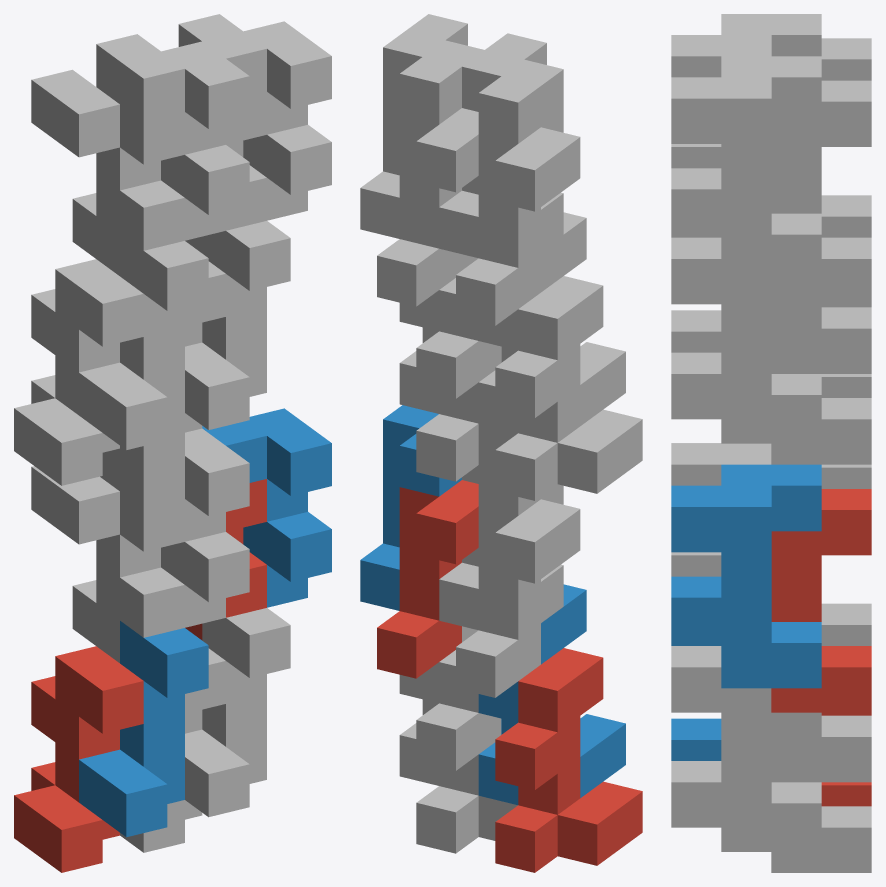
The model's file is tiling.obj.
3 renders of one model, left to right at view 1: azimuth 30°, elevation 25°; view 2: azimuth 150°, elevation 25°; view 3: azimuth 270°, elevation 25°, orthographic. The views are drawn at different scales.
Visible parts, largest first — view 1: copy_2_domain_3, copy_2_domain_4, copy_1_domain_3, copy_1_domain_1, copy_2_domain_1, copy_1_domain_2, copy_1_domain_4, copy_2_domain_8, copy_2_domain_2, copy_1_domain_8, copy_1_domain_6, copy_2_domain_6 (+4 smaller); view 2: copy_1_domain_1, copy_1_domain_3, copy_2_domain_3, copy_2_domain_1, copy_2_domain_5, copy_2_domain_7, copy_2_domain_8, copy_1_domain_5, copy_1_domain_7, copy_2_domain_4, copy_1_domain_4, copy_1_domain_2 (+4 smaller); view 3: copy_2_domain_6, copy_2_domain_8, copy_1_domain_8, copy_1_domain_6, copy_2_domain_7, copy_2_domain_5, copy_1_domain_5, copy_1_domain_7, copy_2_domain_4, copy_2_domain_2, copy_2_domain_3, copy_2_domain_1 (+4 smaller).
Boxes of the visible parts, box(x1,y1,x2,y2) form: copy_2_domain_3: box(31, 69, 184, 275); copy_2_domain_4: box(96, 34, 249, 240); copy_1_domain_3: box(14, 259, 143, 485); copy_1_domain_1: box(14, 646, 143, 872); copy_2_domain_1: box(31, 466, 184, 662); copy_1_domain_2: box(79, 621, 208, 837); copy_1_domain_4: box(79, 233, 208, 449); copy_2_domain_8: box(178, 14, 331, 220); copy_2_domain_2: box(100, 428, 249, 627); copy_1_domain_8: box(185, 221, 290, 429); copy_1_domain_6: box(185, 608, 290, 817); copy_2_domain_6: box(202, 408, 331, 607); copy_1_domain_1: box(495, 648, 642, 872); copy_1_domain_3: box(495, 276, 642, 500); copy_2_domain_3: box(456, 111, 580, 325); copy_2_domain_1: box(456, 485, 580, 697); copy_2_domain_5: box(377, 480, 478, 678); copy_2_domain_7: box(377, 108, 478, 306); copy_2_domain_8: box(360, 14, 484, 238); copy_1_domain_5: box(416, 650, 517, 853); copy_1_domain_7: box(416, 278, 517, 481); copy_2_domain_4: box(439, 33, 563, 258); copy_1_domain_4: box(478, 212, 625, 432); copy_1_domain_2: box(478, 584, 625, 804); copy_2_domain_6: box(671, 464, 821, 688); copy_2_domain_8: box(671, 56, 821, 279); copy_1_domain_8: box(671, 237, 821, 440); copy_1_domain_6: box(671, 646, 821, 848); copy_2_domain_7: box(771, 80, 871, 304); copy_2_domain_5: box(771, 489, 871, 712); copy_1_domain_5: box(721, 715, 871, 872); copy_1_domain_7: box(721, 307, 871, 464); copy_2_domain_4: box(671, 14, 821, 168); copy_2_domain_2: box(671, 443, 771, 576); copy_2_domain_3: box(821, 38, 871, 237); copy_2_domain_1: box(821, 464, 871, 645).
Size of the model in its own units: 6 by 18 by 4.
